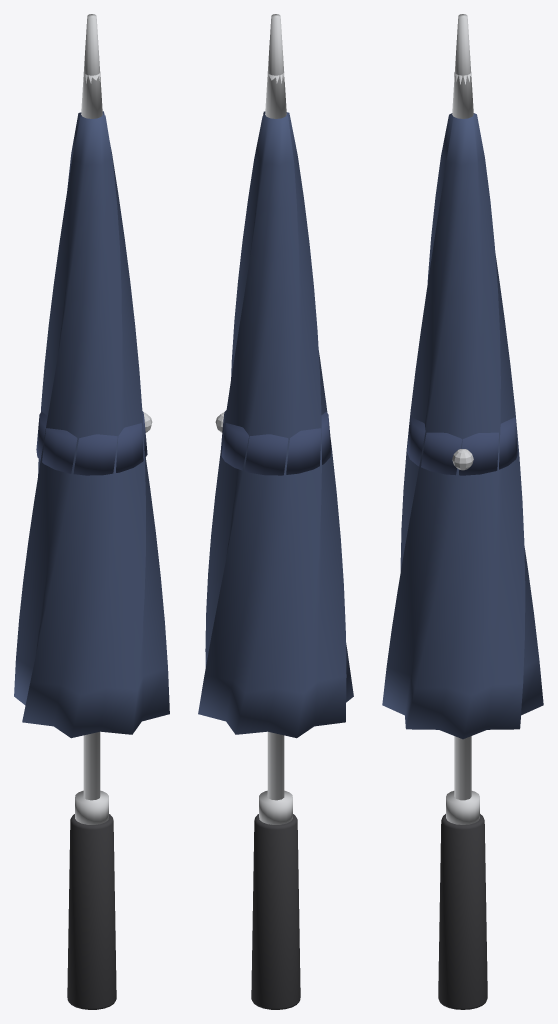
Rendered from umbrella.glb.
The picture shows the model from 3 angles, left to right: view 1: azimuth 30°, elevation 25°; view 2: azimuth 150°, elevation 25°; view 3: azimuth 270°, elevation 25°; orthographic projection.
Visible parts, largest first — view 1: Umbrella_Canopy, Umbrella_Grip, Umbrella_Strap, Umbrella_Tip, Umbrella_Shaft, Umbrella_Collar; view 2: Umbrella_Canopy, Umbrella_Grip, Umbrella_Strap, Umbrella_Tip, Umbrella_Shaft, Umbrella_Collar; view 3: Umbrella_Canopy, Umbrella_Grip, Umbrella_Strap, Umbrella_Tip, Umbrella_Shaft, Umbrella_Collar.
Boxes of the visible parts, box(x1,y1,x2,y2) form: Umbrella_Canopy: box(14, 111, 169, 738); Umbrella_Grip: box(67, 814, 116, 1009); Umbrella_Strap: box(36, 411, 147, 475); Umbrella_Tip: box(81, 14, 102, 118); Umbrella_Shaft: box(83, 72, 100, 800); Umbrella_Collar: box(75, 790, 108, 824); Umbrella_Canopy: box(198, 111, 353, 738); Umbrella_Grip: box(251, 814, 300, 1009); Umbrella_Strap: box(220, 410, 331, 475); Umbrella_Tip: box(265, 14, 286, 118); Umbrella_Shaft: box(267, 72, 284, 800); Umbrella_Collar: box(259, 790, 292, 824); Umbrella_Canopy: box(382, 113, 543, 739); Umbrella_Grip: box(438, 814, 487, 1009); Umbrella_Strap: box(407, 417, 517, 475); Umbrella_Tip: box(452, 14, 473, 118); Umbrella_Shaft: box(454, 72, 471, 800); Umbrella_Collar: box(446, 791, 479, 824).
Bounding box in the file's own units: 0.104 × 0.7 × 0.104.
